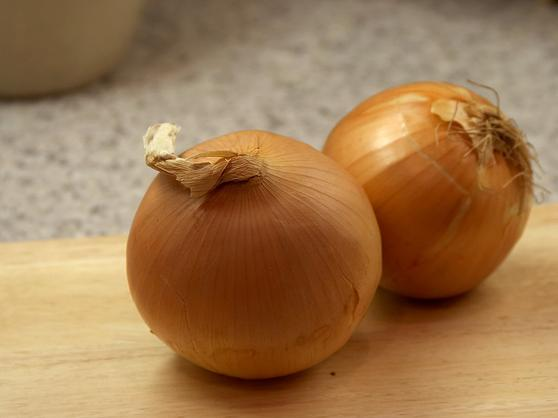onion: (126, 127, 392, 386), (333, 74, 557, 324)
